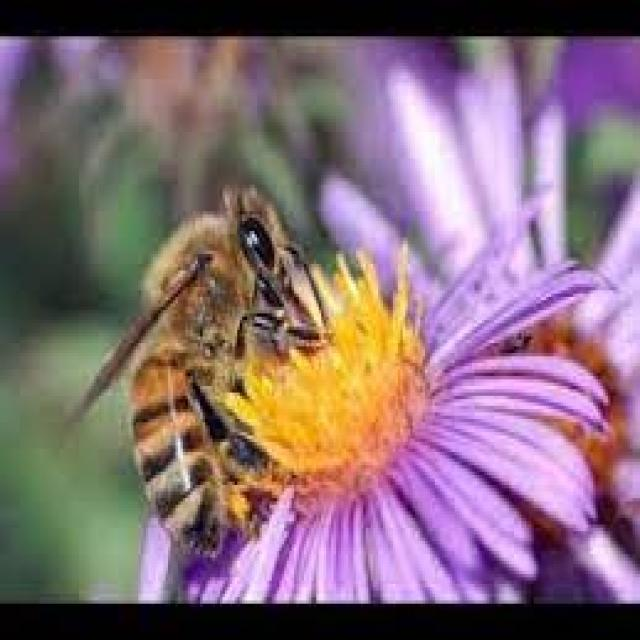Bees: (74, 186, 334, 560)
